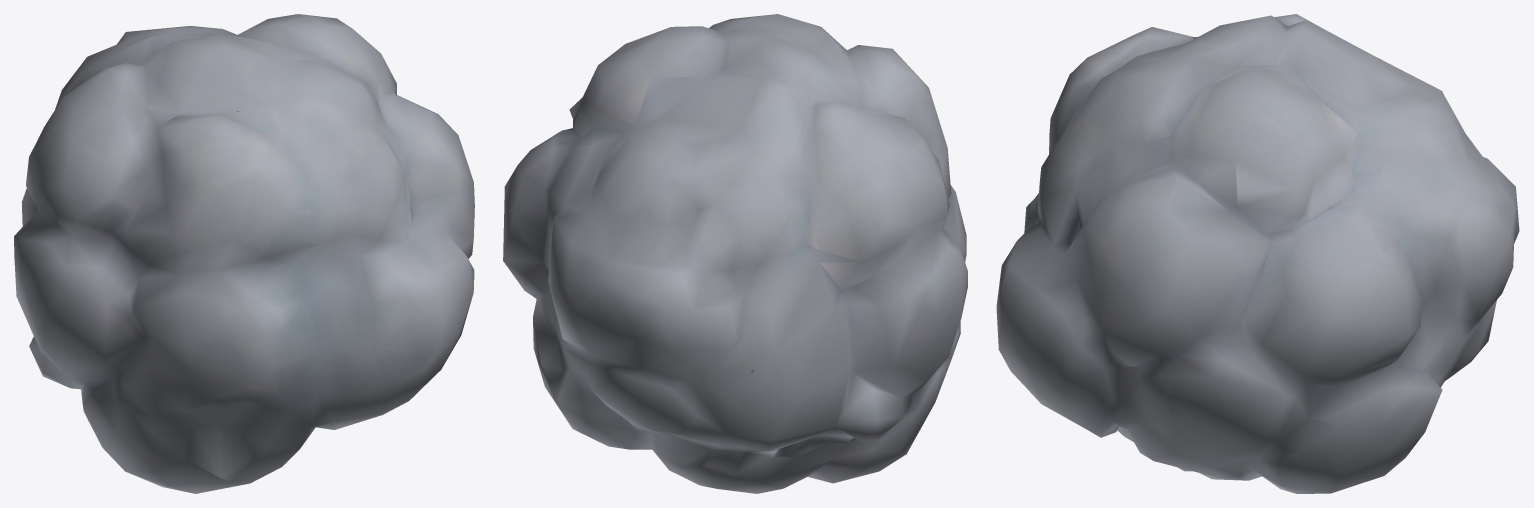
Rendered from Healing Cotton.fbx.
3 renders of one model, left to right at view 1: azimuth 30°, elevation 25°; view 2: azimuth 150°, elevation 25°; view 3: azimuth 270°, elevation 25°, orthographic. The views are drawn at different scales.
Parts seen in each view (by area): view 1: Cotton; view 2: Cotton; view 3: Cotton.
Part boxes in pixels (x1,y1,x2,y2): Cotton: (14,14,474,493); Cotton: (503,14,967,493); Cotton: (996,14,1519,493).
Size of the model in its own units: 78.73 by 77.94 by 83.72.
Materials: 1 (1 with a texture image).
